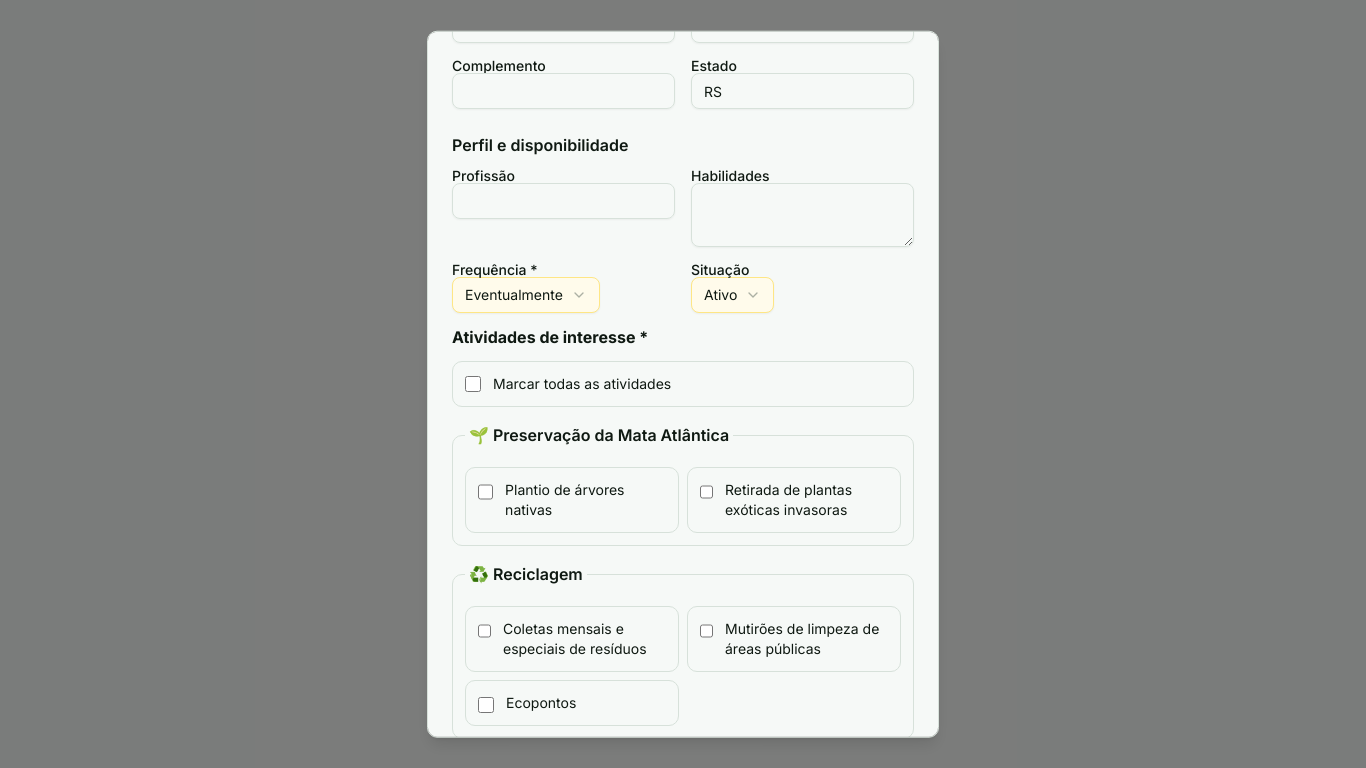
it: catálogo de atividades na gestão interna › CA-053: seleciona todas, reflete a remoção individual e desmarca todas
(page scrolled)
Step 1. Click the checkbox labelled "Marcar todas as atividades" → coordinates (473, 384), box x1=465 y1=376 x2=481 y2=392
(page scrolled)
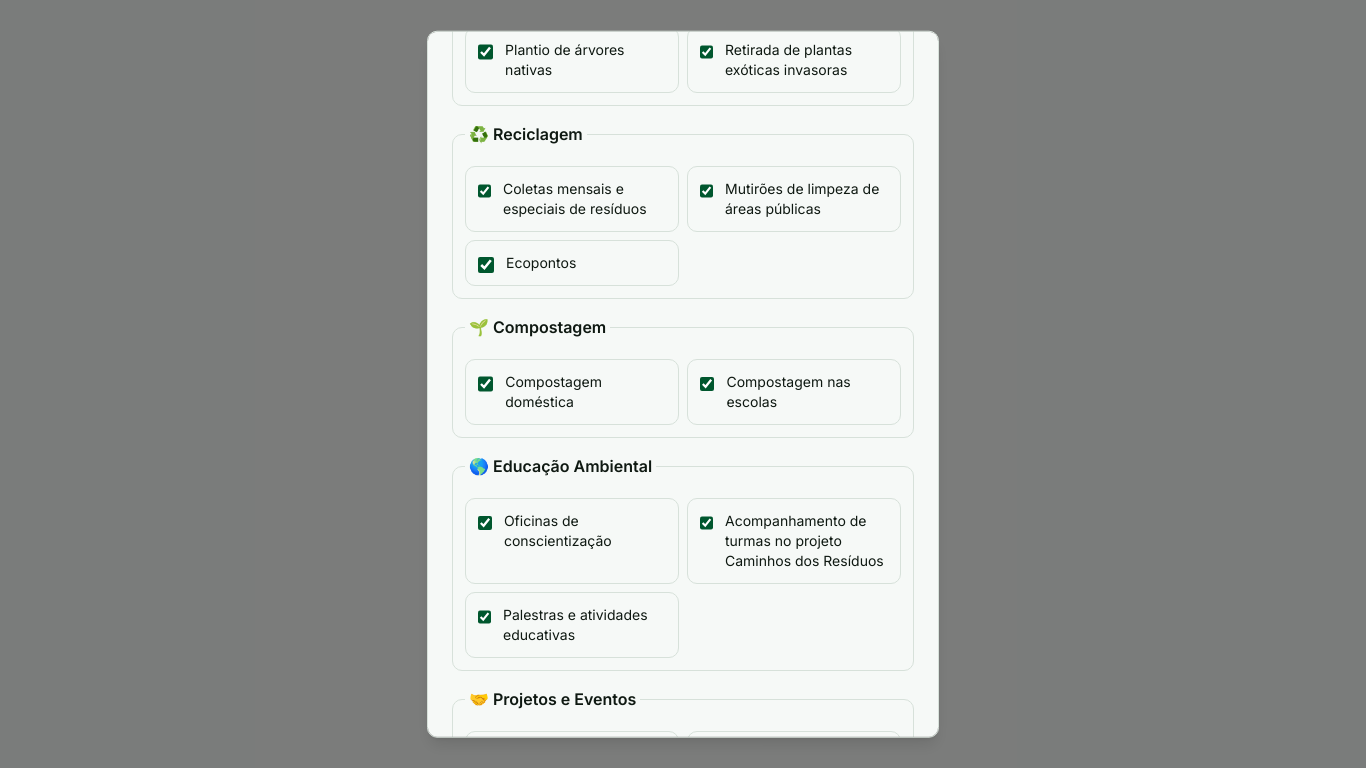
Expected: the checkbox labelled "Plantio de árvores nativas" is checked, x1=478 y1=44 x2=493 y2=60
Expected: the checkbox labelled "Retirada de plantas exóticas invasoras" is checked, x1=700 y1=44 x2=713 y2=60
Expected: the checkbox labelled "Coletas mensais e especiais de resíduos" is checked, x1=478 y1=183 x2=491 y2=199
Step 2. Click the checkbox labelled "Compostagem doméstica" → coordinates (486, 384), box x1=478 y1=376 x2=493 y2=392
(page scrolled)
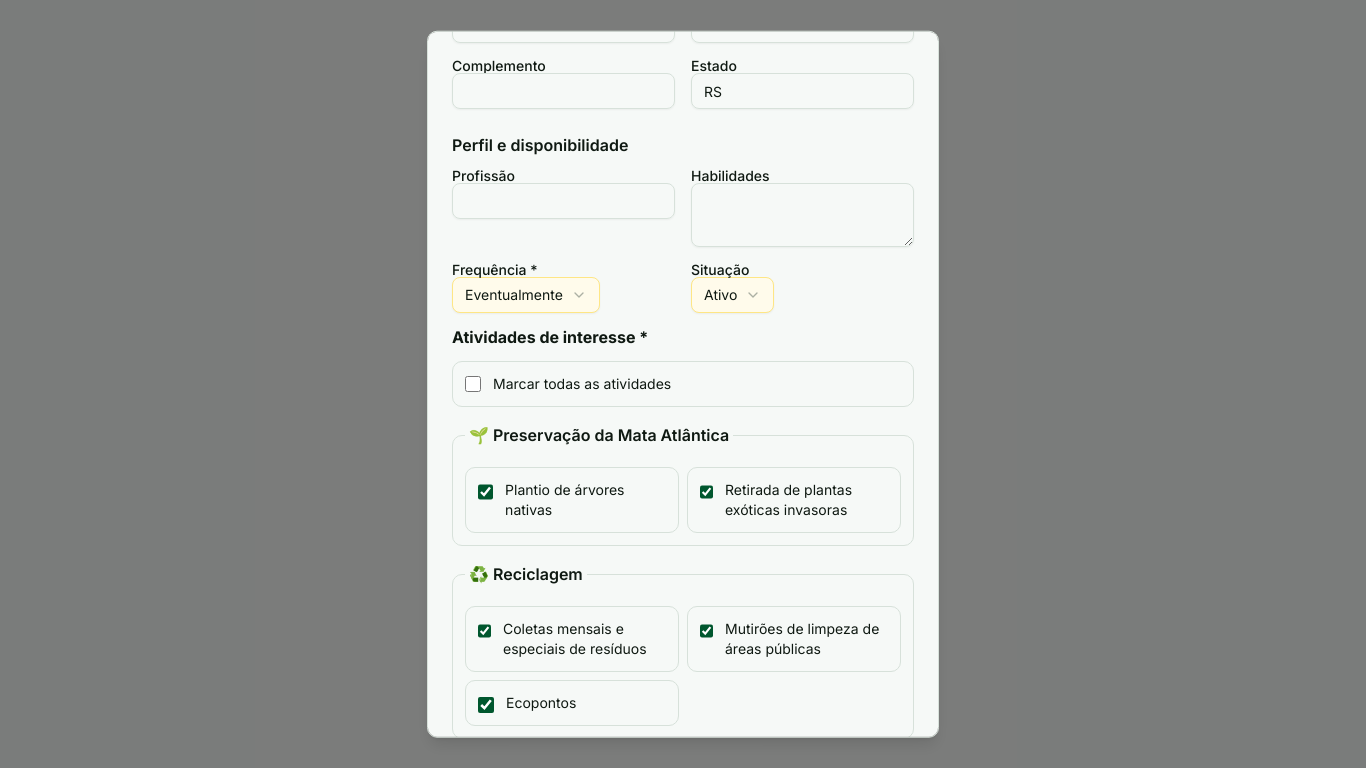
Expected: the checkbox labelled "Marcar todas as atividades" is not checked
Step 3. Click the checkbox labelled "Marcar todas as atividades" → coordinates (473, 384), box x1=465 y1=376 x2=481 y2=392
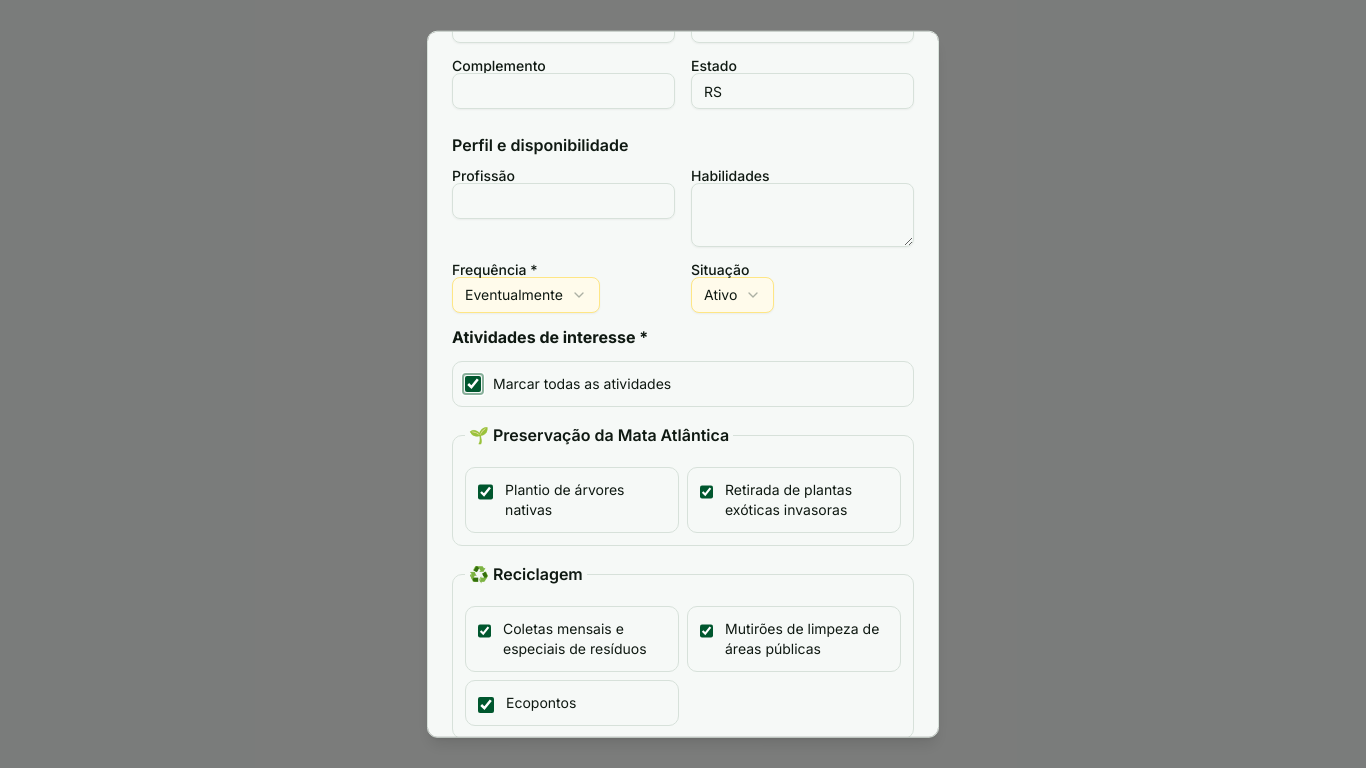
Step 4. Click the checkbox labelled "Marcar todas as atividades" → coordinates (473, 384), box x1=465 y1=376 x2=481 y2=392
(page scrolled)
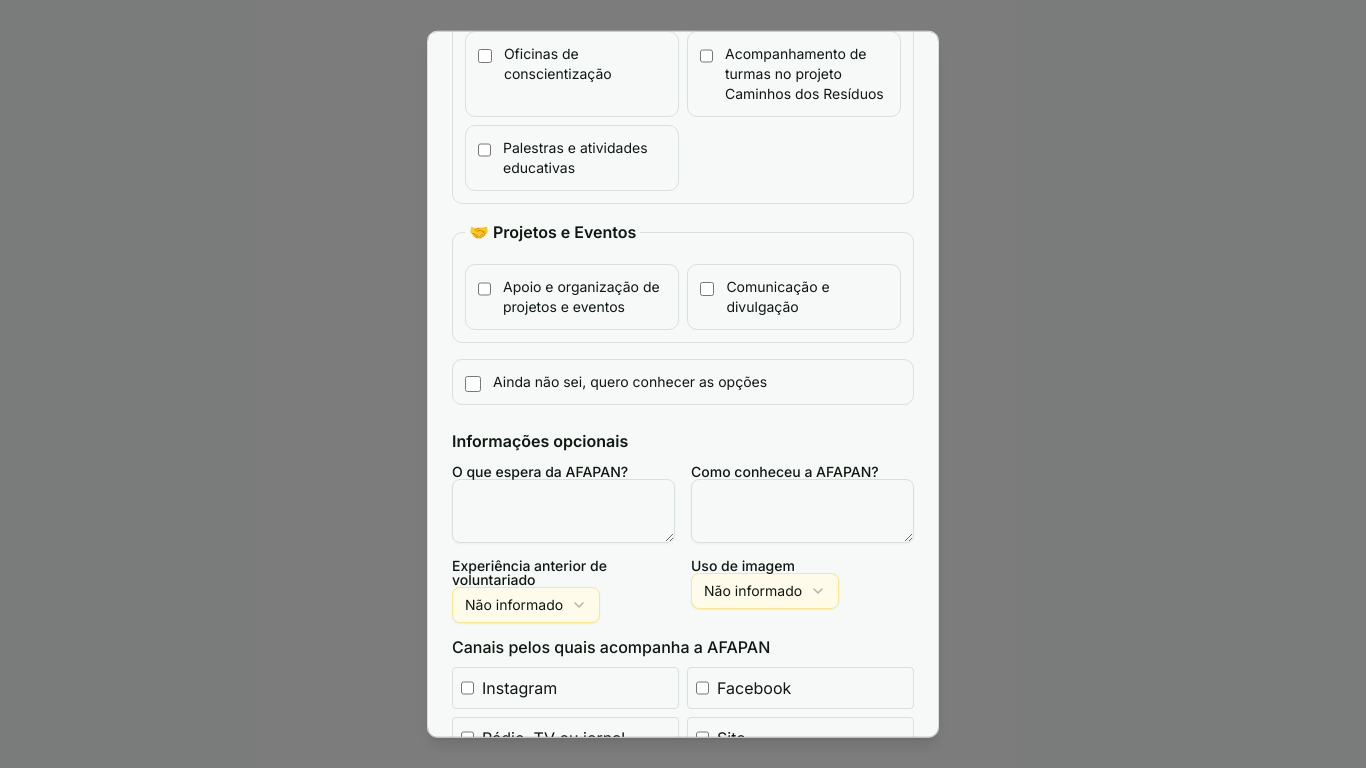
Expected: the checkbox labelled "Oficinas de conscientização" is not checked, x1=478 y1=48 x2=492 y2=64
Expected: the checkbox labelled "Acompanhamento de turmas no projeto Caminhos dos Resíduos" is not checked, x1=700 y1=48 x2=713 y2=64
Expected: the checkbox labelled "Palestras e atividades educativas" is not checked, x1=478 y1=142 x2=491 y2=158
